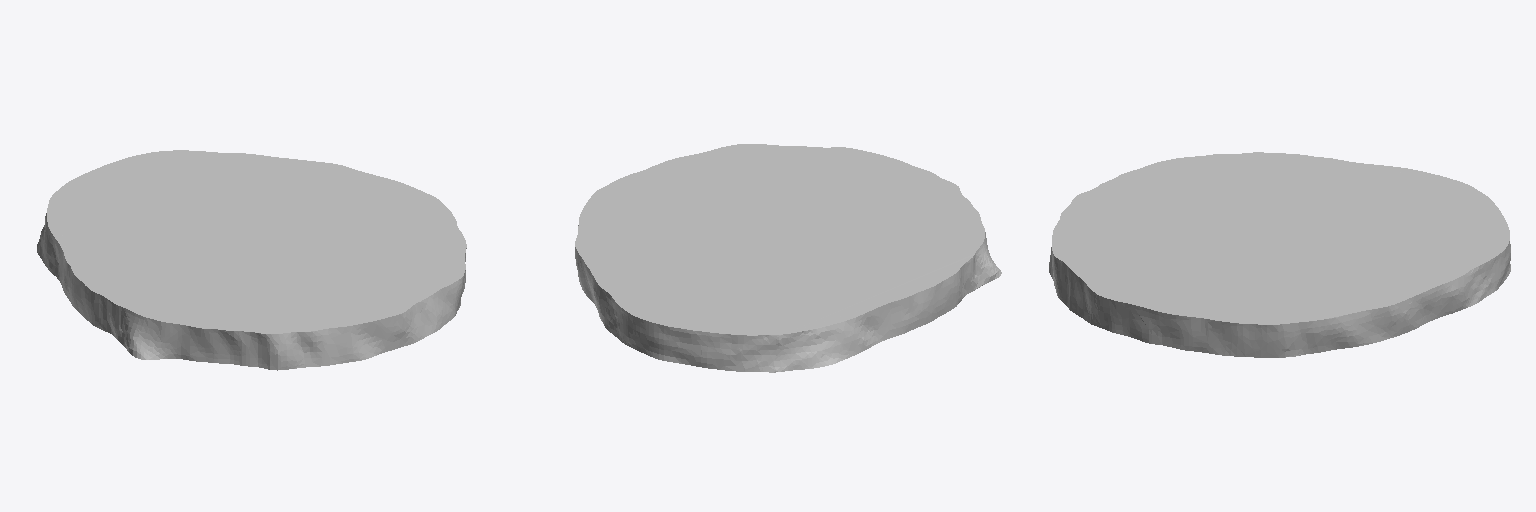
3 renders of one model, left to right at view 1: azimuth 30°, elevation 25°; view 2: azimuth 150°, elevation 25°; view 3: azimuth 270°, elevation 25°, orthographic.
Parts seen in each view (by area): view 1: low.006_Fotogrametria_MarioGomes_V01_Model_2.007; view 2: low.006_Fotogrametria_MarioGomes_V01_Model_2.007; view 3: low.006_Fotogrametria_MarioGomes_V01_Model_2.007.
Part boxes in pixels (x1,y1,x2,y2): low.006_Fotogrametria_MarioGomes_V01_Model_2.007: (37,150,466,370); low.006_Fotogrametria_MarioGomes_V01_Model_2.007: (575,144,1001,372); low.006_Fotogrametria_MarioGomes_V01_Model_2.007: (1049,152,1510,357).
Size of the model in its own units: 2.1 by 0.1973 by 2.37.